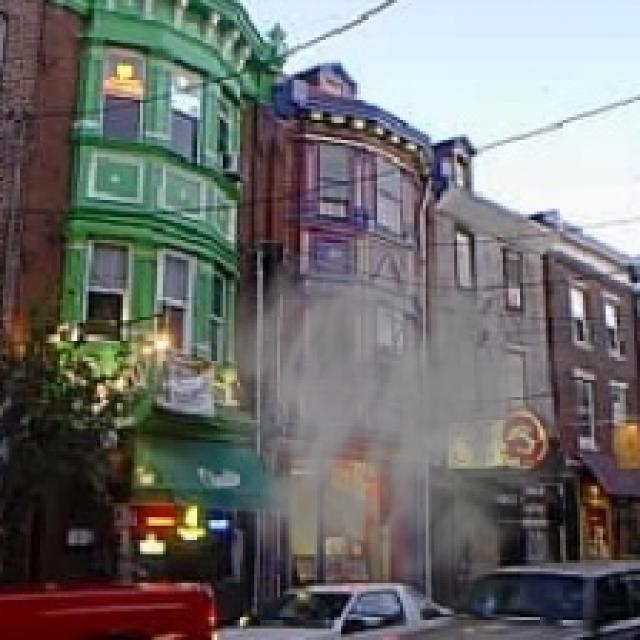smoke: (200, 220, 583, 637)
